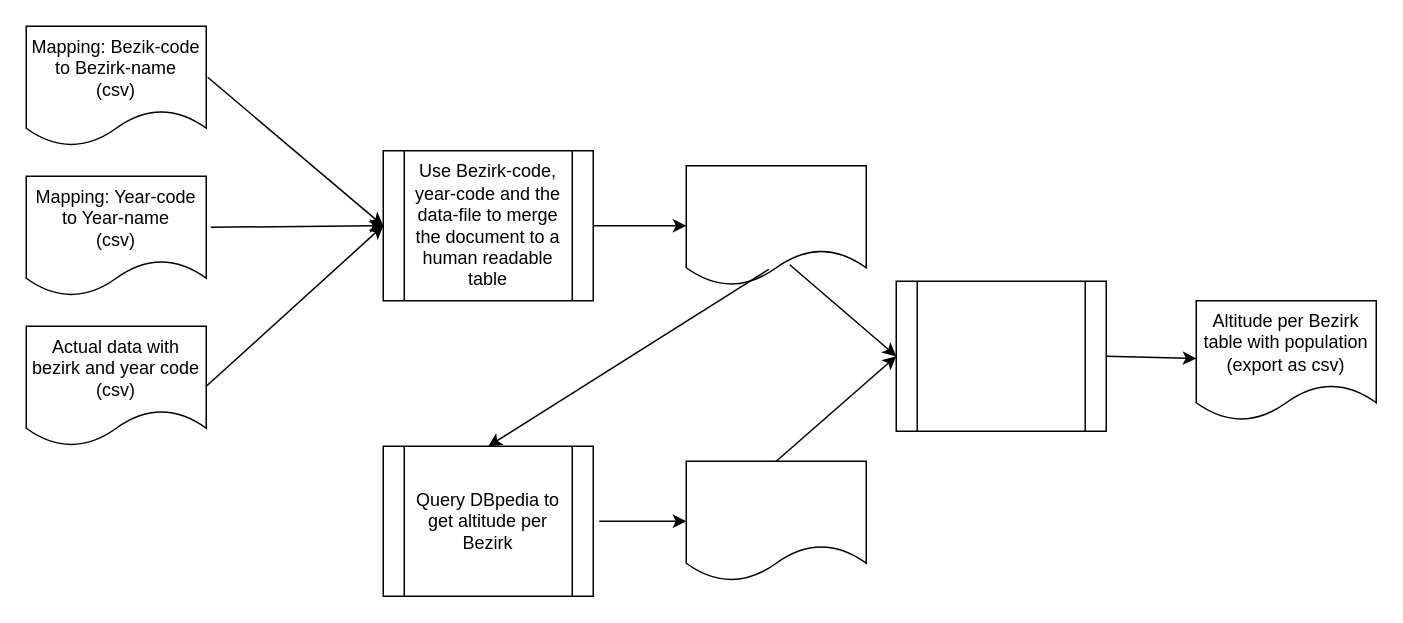
The diagram is 1403 pixels wide and 623 high, and some of its shapes have lost their labels. The shapes that lost their labels are listed below. From the top down, each one's box as (x1, y1, x2, y2) in pixels, then its label:
(685, 164, 866, 286): Human readable Population table (Pandas DF)
(895, 280, 1106, 431): Merge Bezrik table with altitude table
(685, 460, 866, 581): Altitude per Bezirk table (Pandas DF)
